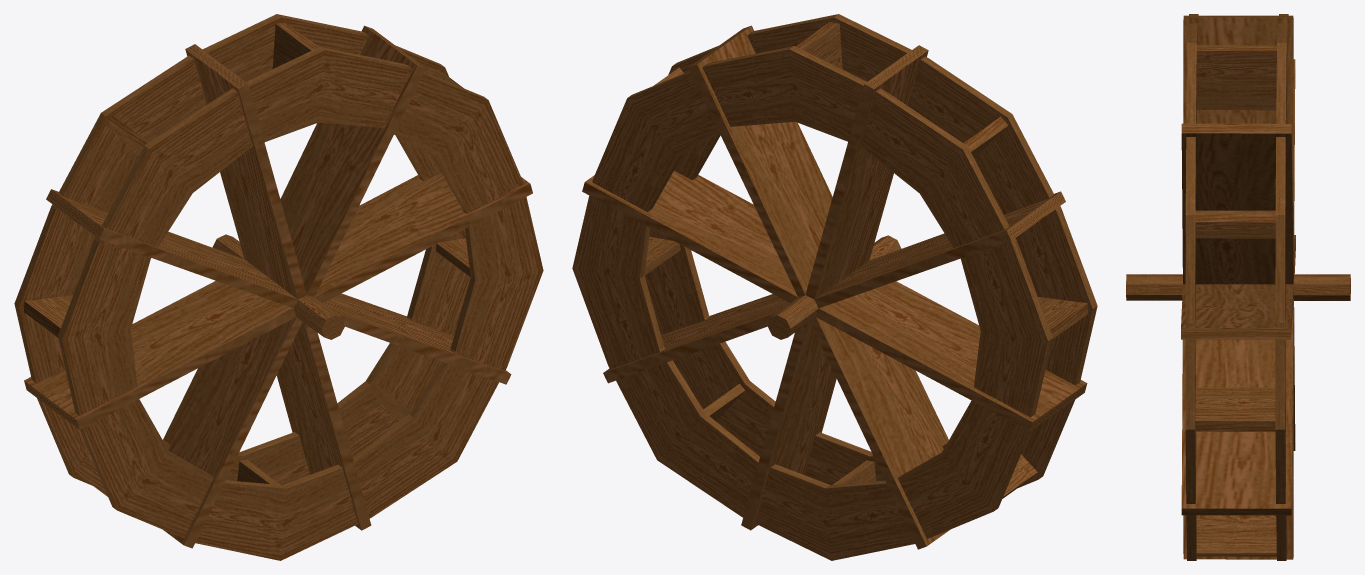
File: mill_wheel.obj
The picture shows the model from 3 angles, left to right: view 1: azimuth 30°, elevation 25°; view 2: azimuth 150°, elevation 25°; view 3: azimuth 270°, elevation 25°; orthographic projection.
Visible parts, largest first — view 1: mill.001_Plane.002; view 2: mill.001_Plane.002; view 3: mill.001_Plane.002.
Boxes of the visible parts, x1,y1,x2,y2 form: mill.001_Plane.002: (14, 14, 543, 560); mill.001_Plane.002: (572, 14, 1097, 560); mill.001_Plane.002: (1126, 14, 1350, 560).
Bounding box in the file's own units: 3.87 × 3.87 × 1.54.
